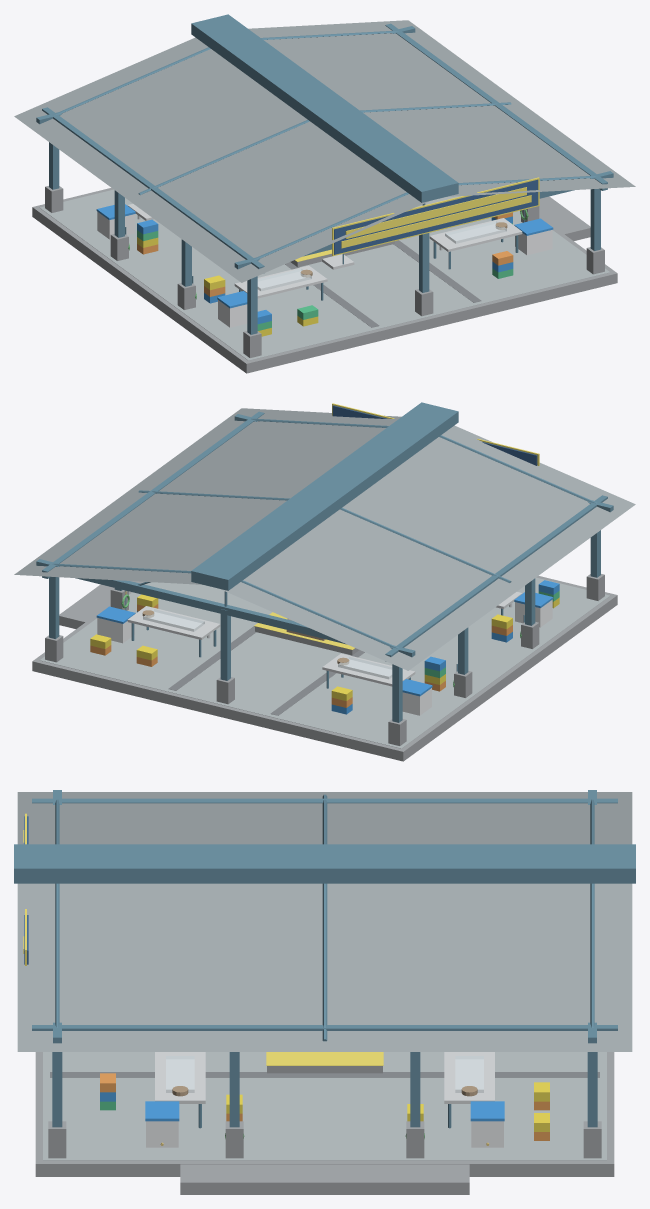
Rendered from building_fish_auction_pavilion_01.glb.
The picture shows the model from 3 angles, top to bottom: view 1: azimuth 30°, elevation 25°; view 2: azimuth 150°, elevation 25°; view 3: azimuth 270°, elevation 25°; orthographic projection. The views are drawn at different scales.
Parts seen in each view (by area): view 1: Pavilion_Corrugated_Roof, Pavilion_Washable_Tile_Floor, Pavilion_Ridge_Monitor_Ventilator, Pavilion_Foundation_Plinth, Pavilion_Bilingual_Signboard, Pavilion_Eaves_Beam_X_-7.4, Pavilion_Table_North_East_Top, Pavilion_Eaves_Beam_X_7.4, Sign_Text_Telugu_Plaque, Sign_Text_English_Plaque, Pavilion_Table_North_West_Top, Pavilion_East_Delivery_Ramp (+14 smaller); view 2: Pavilion_Corrugated_Roof, Pavilion_Washable_Tile_Floor, Pavilion_Ridge_Monitor_Ventilator, Pavilion_Foundation_Plinth, Pavilion_Eaves_Beam_Y_7.4, Pavilion_Eaves_Beam_X_-7.4, Pavilion_Table_South_East_Top, Pavilion_Eaves_Beam_X_7.4, Pavilion_Table_South_West_Top, Pavilion_East_Delivery_Ramp, Pavilion_Steel_Column_4, Pavilion_Bilingual_Signboard (+13 smaller); view 3: Pavilion_Corrugated_Roof, Pavilion_Washable_Tile_Floor, Pavilion_Ridge_Monitor_Ventilator, Pavilion_East_Delivery_Ramp, Pavilion_Foundation_Plinth, Pavilion_Eaves_Beam_X_-7.4, Pavilion_Eaves_Beam_X_7.4, Pavilion_Table_North_East_Top, Pavilion_Table_South_East_Top, Pavilion_Drain_Grate_2.2, Pavilion_Auction_Stage_Safety_Strip, Table_North_East_Iced_Catch_Bed (+17 smaller).
Part boxes in pixels (left/top/right/bottom): Pavilion_Corrugated_Roof: left=14, top=20, right=635, bottom=282; Pavilion_Washable_Tile_Floor: left=40, top=189, right=610, bottom=360; Pavilion_Ridge_Monitor_Ventilator: left=191, top=14, right=458, bottom=202; Pavilion_Foundation_Plinth: left=32, top=188, right=617, bottom=373; Pavilion_Bilingual_Signboard: left=334, top=179, right=538, bottom=254; Pavilion_Eaves_Beam_X_-7.4: left=42, top=107, right=264, bottom=273; Pavilion_Table_North_East_Top: left=429, top=218, right=522, bottom=251; Pavilion_Eaves_Beam_X_7.4: left=385, top=23, right=607, bottom=190; Sign_Text_Telugu_Plaque: left=345, top=187, right=526, bottom=238; Sign_Text_English_Plaque: left=341, top=195, right=531, bottom=248; Pavilion_Table_North_West_Top: left=234, top=265, right=327, bottom=298; Pavilion_East_Delivery_Ramp: left=539, top=196, right=590, bottom=240; Pavilion_Corrugated_Roof: left=14, top=408, right=635, bottom=670; Pavilion_Washable_Tile_Floor: left=39, top=577, right=609, bottom=748; Pavilion_Ridge_Monitor_Ventilator: left=191, top=402, right=458, bottom=590; Pavilion_Foundation_Plinth: left=32, top=576, right=617, bottom=761; Pavilion_Eaves_Beam_Y_7.4: left=36, top=559, right=415, bottom=657; Pavilion_Eaves_Beam_X_-7.4: left=385, top=495, right=607, bottom=661; Pavilion_Table_South_East_Top: left=127, top=606, right=220, bottom=639; Pavilion_Eaves_Beam_X_7.4: left=42, top=411, right=264, bottom=578; Pavilion_Table_South_West_Top: left=322, top=653, right=415, bottom=686; Pavilion_East_Delivery_Ramp: left=59, top=581, right=140, bottom=628; Pavilion_Steel_Column_4: left=220, top=609, right=230, bottom=680; Pavilion_Bilingual_Signboard: left=332, top=405, right=537, bottom=465; Pavilion_Corrugated_Roof: left=17, top=792, right=632, bottom=1051; Pavilion_Washable_Tile_Floor: left=43, top=1052, right=606, bottom=1160; Pavilion_Ridge_Monitor_Ventilator: left=14, top=844, right=635, bottom=883; Pavilion_East_Delivery_Ramp: left=180, top=1164, right=469, bottom=1194; Pavilion_Foundation_Plinth: left=35, top=1052, right=614, bottom=1176; Pavilion_Eaves_Beam_X_-7.4: left=32, top=798, right=617, bottom=803; Pavilion_Eaves_Beam_X_7.4: left=32, top=1025, right=617, bottom=1030; Pavilion_Table_North_East_Top: left=155, top=1052, right=205, bottom=1103; Pavilion_Table_South_East_Top: left=444, top=1052, right=494, bottom=1103; Pavilion_Drain_Grate_2.2: left=50, top=1072, right=599, bottom=1077; Pavilion_Auction_Stage_Safety_Strip: left=266, top=1052, right=383, bottom=1065; Table_North_East_Iced_Catch_Bed: left=166, top=1056, right=194, bottom=1092.
Size of what is drawn, in the model's own units: 17.7 by 6.05 by 17.2.
